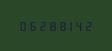eight: (47, 20, 56, 31), (57, 20, 66, 31)
four: (77, 20, 86, 31)
one: (67, 20, 76, 31)
six: (27, 20, 36, 31)
two: (37, 20, 46, 31), (87, 20, 96, 31)
zero: (17, 20, 26, 31)
